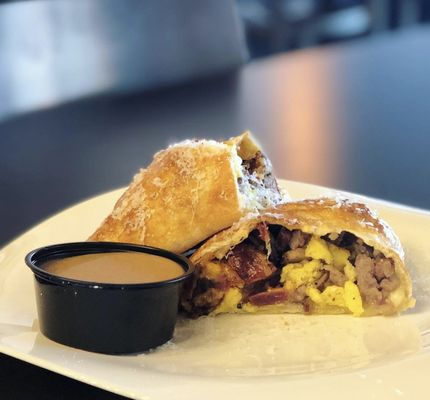soup: (180, 197, 414, 318), (89, 131, 284, 257)
sushi: (23, 240, 194, 355)
